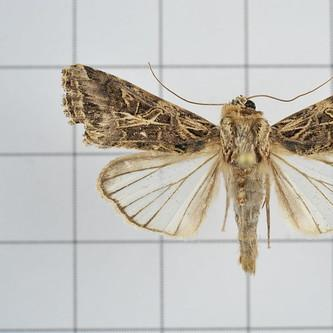Spodoptera litura: (60, 61, 333, 276)
